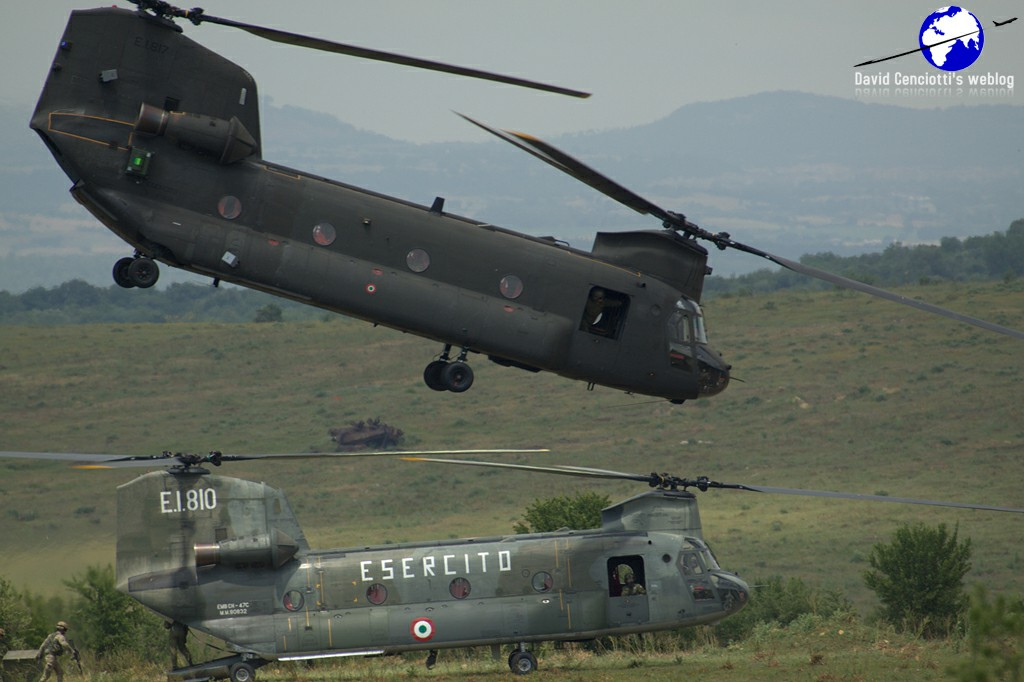chinook: (20, 3, 857, 410), (56, 443, 868, 677)
